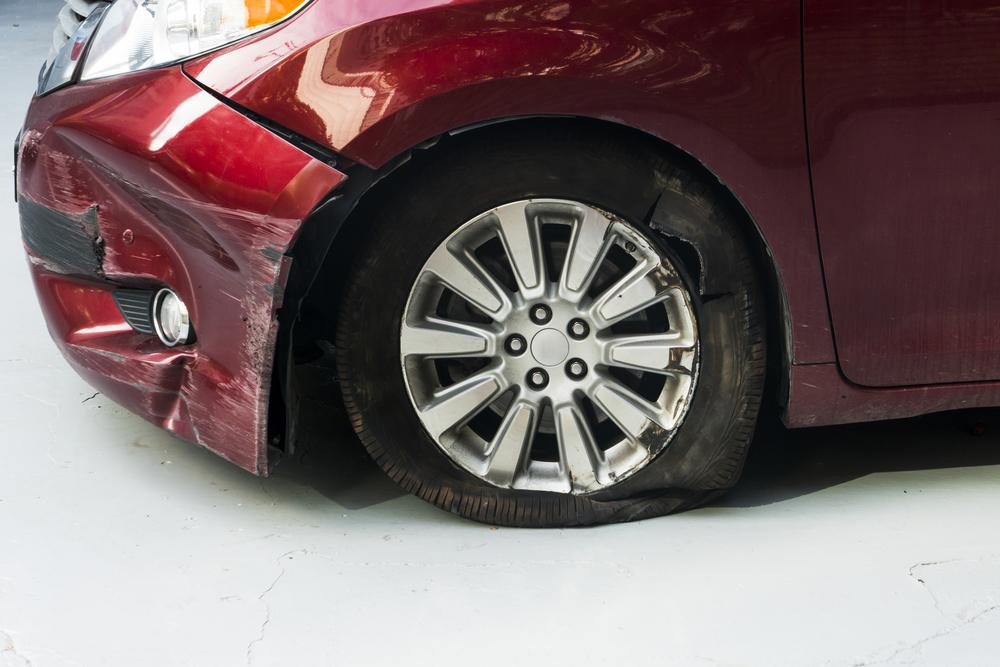dent: (57, 125, 243, 433)
scratch: (189, 202, 305, 479), (17, 125, 167, 280), (62, 341, 160, 392)
tire flat: (335, 145, 771, 529)
